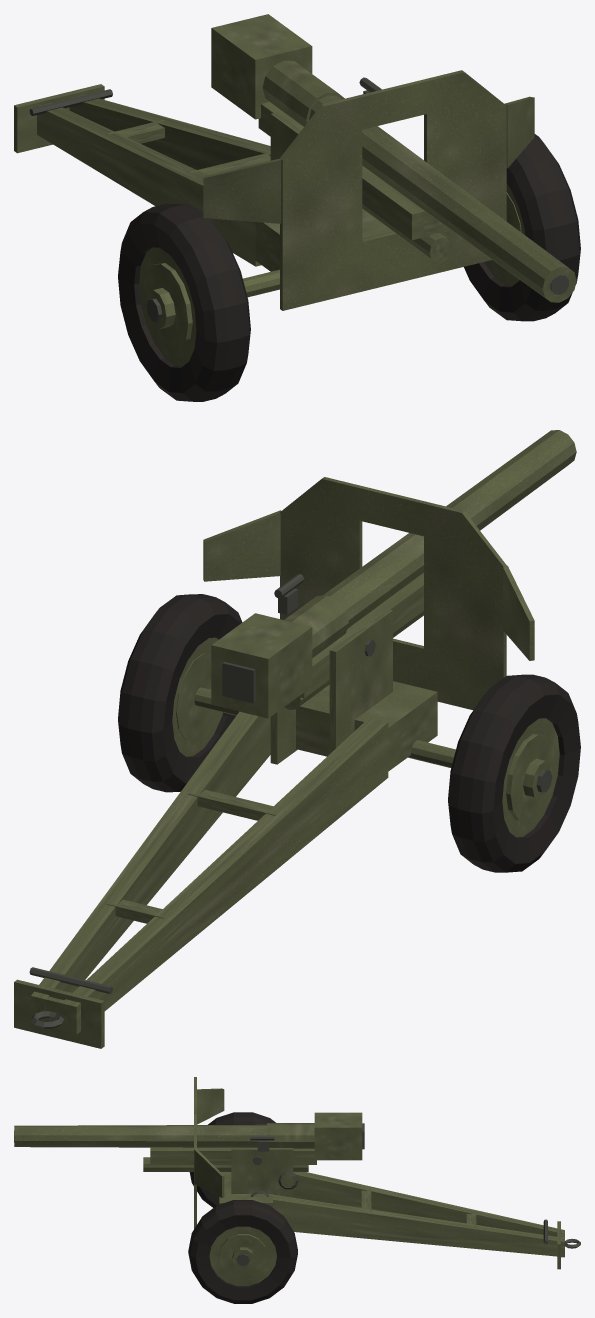
File: artillery.glb
3 views of the same model, one above another, from view 1: azimuth 30°, elevation 25°; view 2: azimuth 150°, elevation 25°; view 3: azimuth 270°, elevation 25° (orthographic). The views are drawn at different scales.
Visible parts, largest first — view 1: bouclier, pneu_right, tube, longeron_right, pneu_left, culasse, longeron_left, aile_right, jante_right, berceau, beche, corps (+8 smaller); view 2: bouclier, longeron_right, pneu_right, longeron_left, pneu_left, tube, culasse, flasques, corps, aile_left, jante_right, jante_left (+7 smaller); view 3: longeron_left, tube, pneu_left, longeron_right, jante_left, flasques, culasse, berceau, pneu_right, aile_left, aile_right, recuperateur (+3 smaller).
Boxes of the visible parts, box(x1,y1,x2,y2) form: bouclier: box(280, 70, 506, 310); pneu_right: box(118, 203, 250, 401); tube: box(262, 60, 576, 302); longeron_right: box(37, 102, 261, 266); pneu_left: box(464, 134, 580, 321); culasse: box(211, 14, 312, 119); longeron_left: box(69, 94, 270, 169); aile_right: box(203, 158, 281, 223); jante_right: box(139, 247, 196, 366); berceau: box(258, 102, 451, 240); beche: box(14, 84, 104, 153); corps: box(255, 209, 393, 271); bouclier: box(280, 477, 506, 710); longeron_right: box(61, 717, 388, 1034); pneu_right: box(448, 674, 580, 872); longeron_left: box(31, 711, 270, 1024); pneu_left: box(118, 594, 242, 792); tube: box(284, 430, 576, 657); culasse: box(211, 613, 312, 718); flasques: box(270, 608, 392, 764); corps: box(296, 681, 437, 771); aile_left: box(203, 510, 280, 581); jante_right: box(502, 718, 559, 837); jante_left: box(172, 637, 222, 756); longeron_left: box(273, 1194, 564, 1257); tube: box(14, 1123, 314, 1148); pneu_left: box(188, 1200, 297, 1303); longeron_right: box(293, 1172, 564, 1236); jante_left: box(209, 1226, 276, 1285); flasques: box(231, 1148, 293, 1197); culasse: box(314, 1112, 362, 1160); berceau: box(150, 1147, 316, 1164); pneu_right: box(189, 1112, 275, 1207); aile_left: box(194, 1149, 224, 1197); aile_right: box(197, 1088, 224, 1124); recuperateur: box(143, 1157, 308, 1171).
Bounding box in the file's own units: 1.05 × 0.7566 × 2.4.
Materials: 3 (1 with a texture image).
